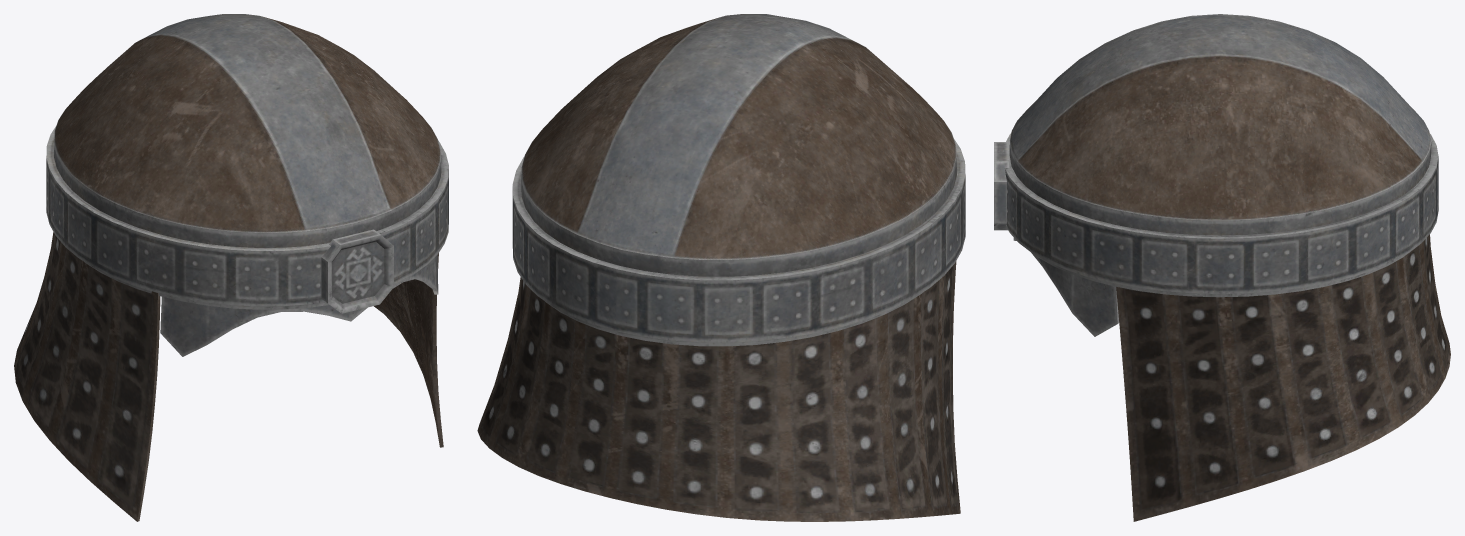
Rendered from sk_dwarf_erebor_helmet_leather_light_b.fbx.
The picture shows the model from 3 angles, left to right: view 1: azimuth 30°, elevation 25°; view 2: azimuth 150°, elevation 25°; view 3: azimuth 270°, elevation 25°; orthographic projection. The views are drawn at different scales.
Visible parts, largest first — view 1: sk_dwarf_erebor_helmet_leather_light_b; view 2: sk_dwarf_erebor_helmet_leather_light_b; view 3: sk_dwarf_erebor_helmet_leather_light_b.
Boxes of the visible parts, x1,y1,x2,y2 form: sk_dwarf_erebor_helmet_leather_light_b: (14, 14, 448, 521); sk_dwarf_erebor_helmet_leather_light_b: (477, 14, 965, 521); sk_dwarf_erebor_helmet_leather_light_b: (994, 14, 1450, 521).
Size of the model in its own units: 0.2795 by 0.2994 by 0.3029.
